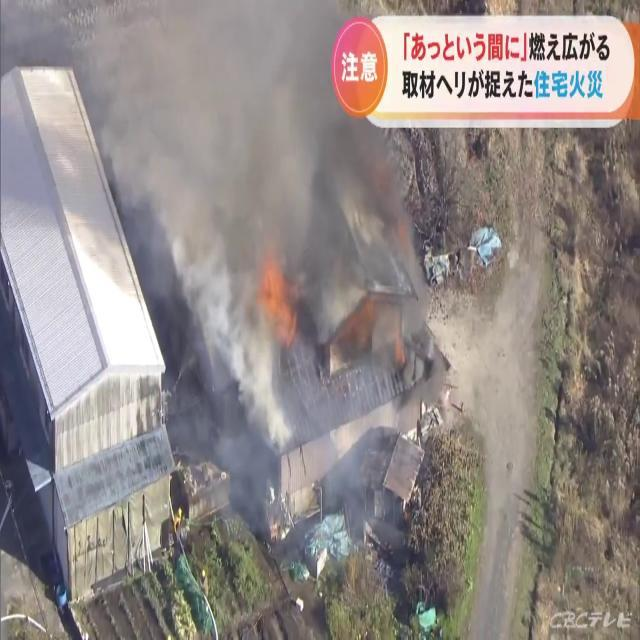Fire: (256, 247, 300, 361)
Smoke: (162, 6, 448, 502), (436, 258, 558, 632)
